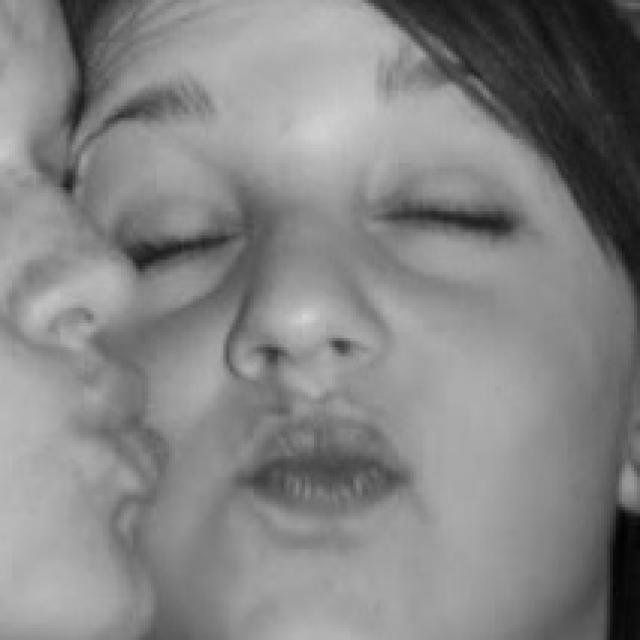real: (84, 24, 638, 616), (104, 132, 556, 292)
